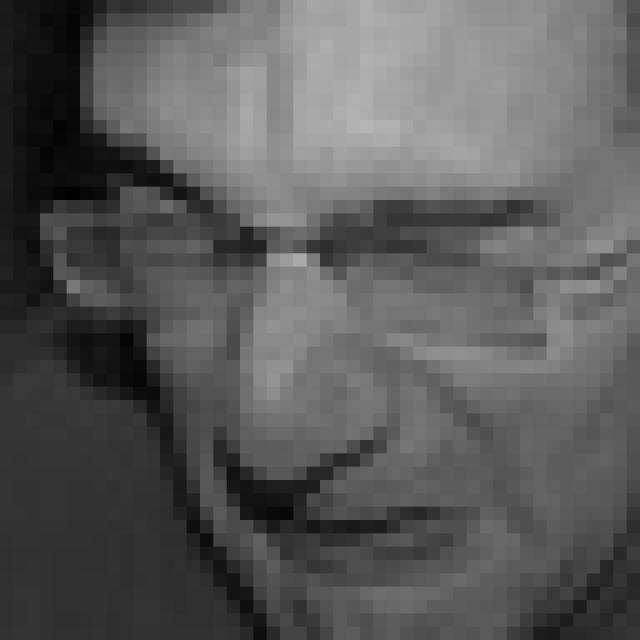disgust: (119, 142, 558, 592)
